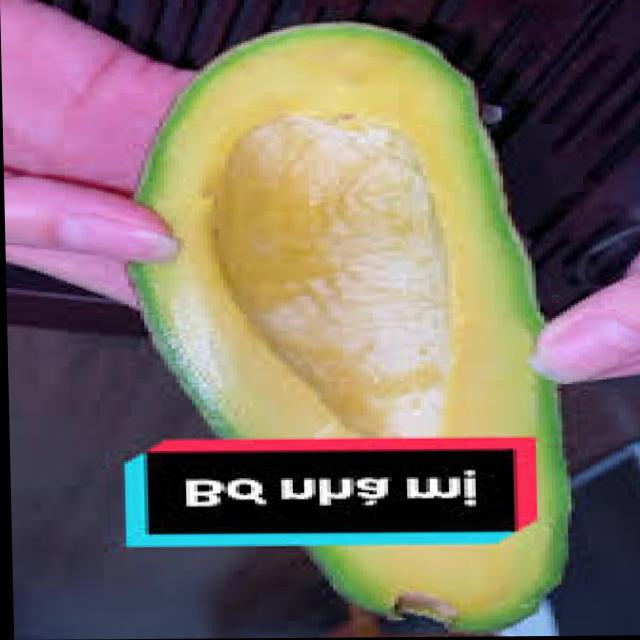Bo: (153, 22, 533, 437)
